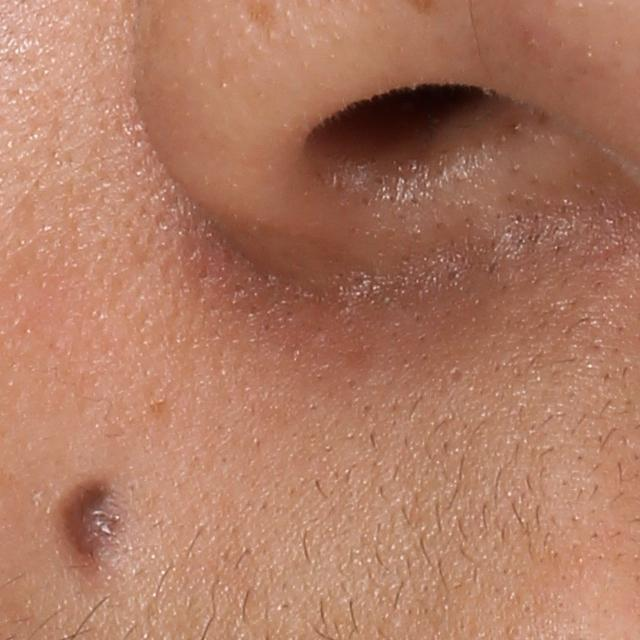nevus: (52, 447, 137, 569)
